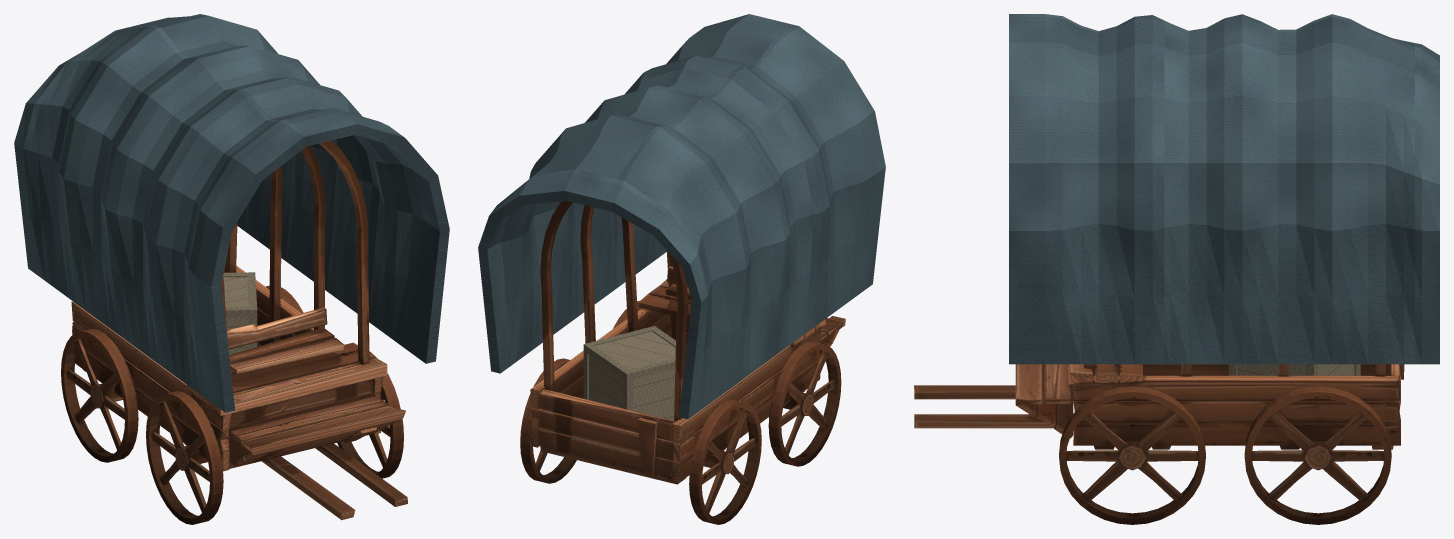
File: opus55_t03.glb
The picture shows the model from 3 angles, left to right: view 1: azimuth 30°, elevation 25°; view 2: azimuth 150°, elevation 25°; view 3: azimuth 270°, elevation 25°; orthographic projection. The views are drawn at different scales.
Parts seen in each view (by area): view 1: slot_canopy_gray, slot_anchor_frame, slot_front_wheels, slot_bed_crate; view 2: slot_canopy_gray, slot_anchor_frame, slot_bed_crate, slot_front_wheels; view 3: slot_canopy_gray, slot_anchor_frame, slot_front_wheels, slot_bed_crate.
Part boxes in pixels (x1=…): slot_canopy_gray: x1=14, y1=14, x2=449, y2=412; slot_anchor_frame: x1=61, y1=140, x2=407, y2=520; slot_front_wheels: x1=146, y1=351, x2=403, y2=524; slot_bed_crate: x1=223, y1=272, x2=257, y2=372; slot_canopy_gray: x1=478, y1=14, x2=885, y2=419; slot_anchor_frame: x1=520, y1=201, x2=845, y2=524; slot_bed_crate: x1=583, y1=326, x2=686, y2=420; slot_front_wheels: x1=613, y1=301, x2=841, y2=466; slot_canopy_gray: x1=1009, y1=14, x2=1439, y2=364; slot_anchor_frame: x1=914, y1=364, x2=1404, y2=524; slot_front_wheels: x1=1059, y1=386, x2=1205, y2=524; slot_bed_crate: x1=1228, y1=364, x2=1360, y2=375.
Bounding box in the file's own units: 1.2 × 1.96 × 2.1.
Materials: 5 (5 with a texture image).
